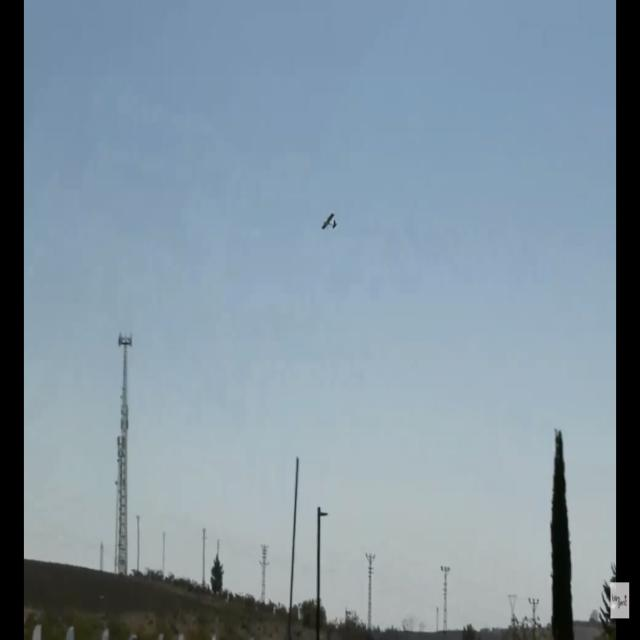iha: (314, 212, 331, 231)
